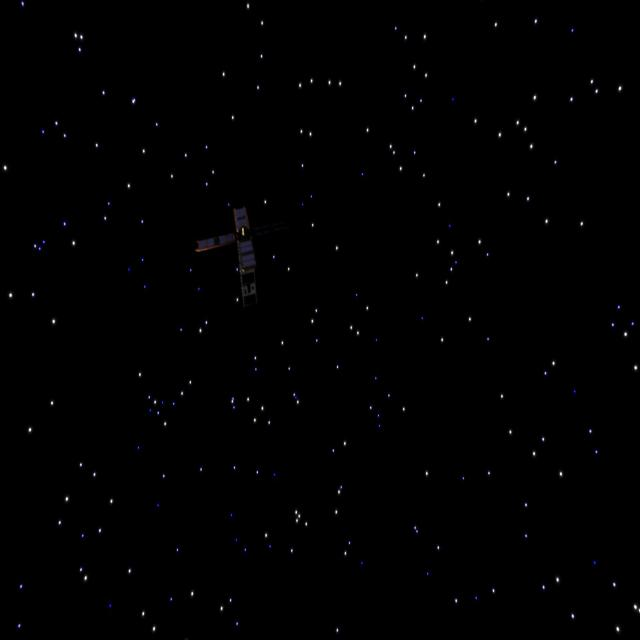satellite: (192, 202, 278, 300)
